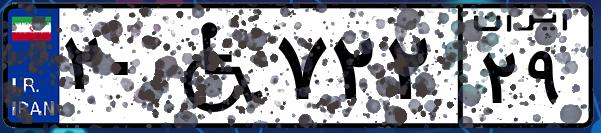0: (110, 28, 158, 98)
2: (385, 28, 445, 110), (330, 28, 385, 110), (57, 26, 110, 100), (475, 38, 525, 113)
7: (270, 28, 330, 110)
9: (525, 38, 570, 115)
ژ (معلولین و جانبازان): (158, 12, 270, 120)
